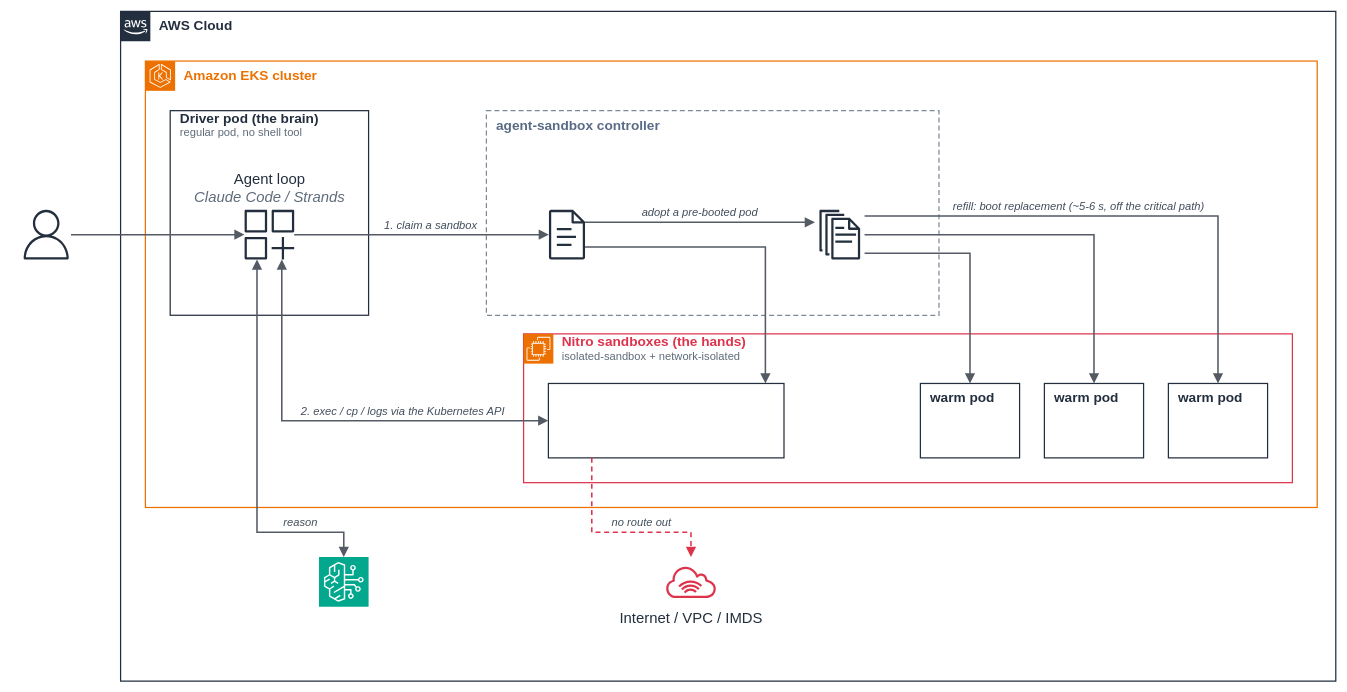
This 1347x692 diagram has some shape labels left out. The shapes that lost their labels are listed below. From the top down, each one's centre as x and y in pixels, then its label:
At (x=46, y=234): "User / task".
At (x=566, y=234): "SandboxClaim session-7f3a".
At (x=839, y=234): "SandboxWarmPool replicas: 5".
At (x=665, y=420): "claimed pod runs the generated code, no network besides loopback".
At (x=343, y=581): "Amazon Bedrock via Pod Identity".
